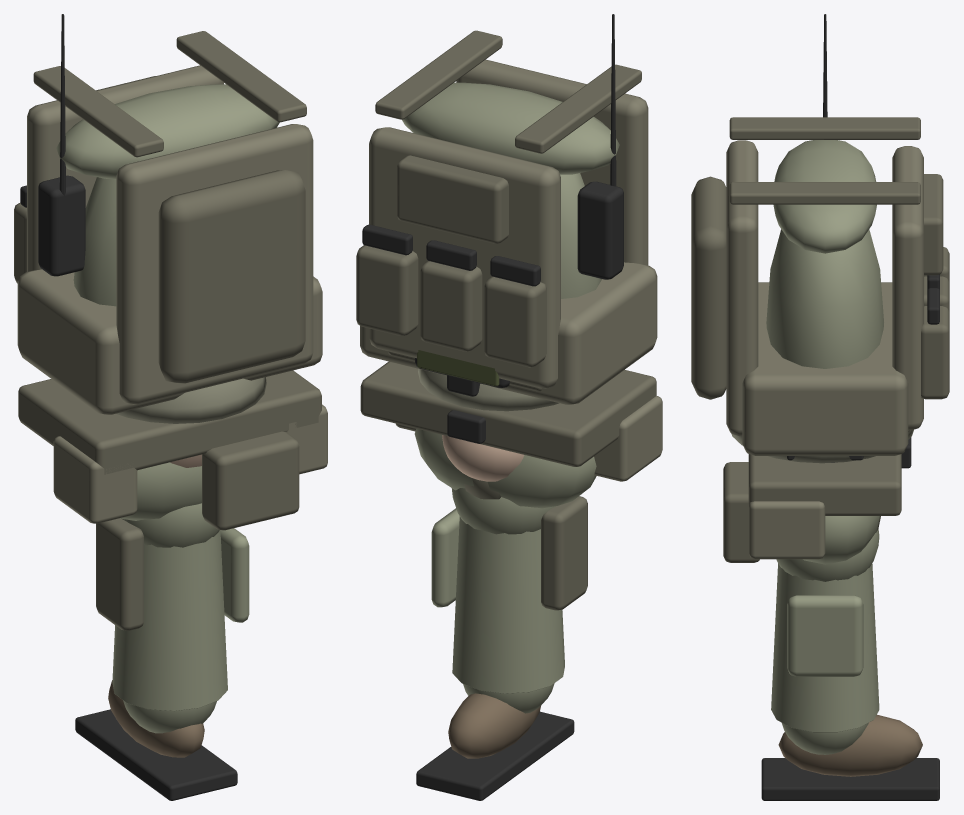
File: soldier_sentinel.glb
3 views of the same model, side by side, from view 1: azimuth 30°, elevation 25°; view 2: azimuth 150°, elevation 25°; view 3: azimuth 270°, elevation 25° (orthographic). The views are drawn at different scales.
Visible parts, largest first — view 1: Hydration, PlateBack, Leg, Belt, Cummerbund, Shoulders, DumpPouch, PlateFront, Sole, LegHolster, HipPouch, Radio (+12 smaller); view 2: PlateFront, Leg, Belt, Cummerbund, Shoulders, PlateBack, AdminPouch, Sole, PelvisBody, MagPouch, MagPouch.001, MagPouch.002 (+18 smaller); view 3: Cummerbund, Chest, Leg, PlateBack, Hydration, Belt, Shoulders, PlateFront, CargoPocket, Sole, Boot, HipPouch.001 (+10 smaller).
Boxes of the visible parts, x1,y1,x2,y2 form: Hydration: (158, 170, 305, 383); PlateBack: (116, 124, 313, 404); Leg: (112, 530, 227, 711); Belt: (18, 370, 321, 474); Cummerbund: (17, 269, 322, 414); Shoulders: (56, 84, 279, 178); DumpPouch: (202, 431, 299, 530); PlateFront: (27, 65, 223, 271); Sole: (75, 709, 237, 800); LegHolster: (96, 518, 143, 630); HipPouch: (53, 436, 137, 523); Radio: (38, 175, 85, 276); PlateFront: (369, 127, 560, 388); Leg: (452, 516, 564, 693); Belt: (360, 361, 656, 466); Cummerbund: (360, 262, 657, 404); Shoulders: (402, 82, 619, 174); PlateBack: (456, 59, 648, 265); AdminPouch: (397, 155, 508, 243); Sole: (416, 711, 574, 800); PelvisBody: (414, 428, 596, 508); MagPouch: (484, 276, 546, 367); MagPouch.001: (420, 261, 482, 351); MagPouch.002: (356, 245, 418, 335); Cummerbund: (742, 282, 908, 455); Chest: (766, 229, 883, 368); Leg: (771, 563, 879, 732); PlateBack: (726, 140, 758, 436); Hydration: (691, 176, 726, 399); Belt: (748, 454, 901, 515); Shoulders: (773, 140, 876, 253); PlateFront: (892, 146, 923, 430); CargoPocket: (787, 595, 863, 676); Sole: (761, 758, 939, 800); Boot: (778, 714, 922, 776); HipPouch.001: (748, 501, 825, 559).
Bounding box in the file's own units: 0.4 × 1.25 × 0.405.
